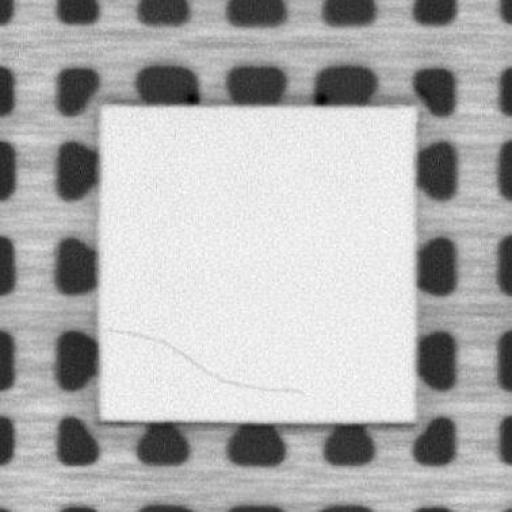DIE_CRACK: (106, 328, 304, 396)
